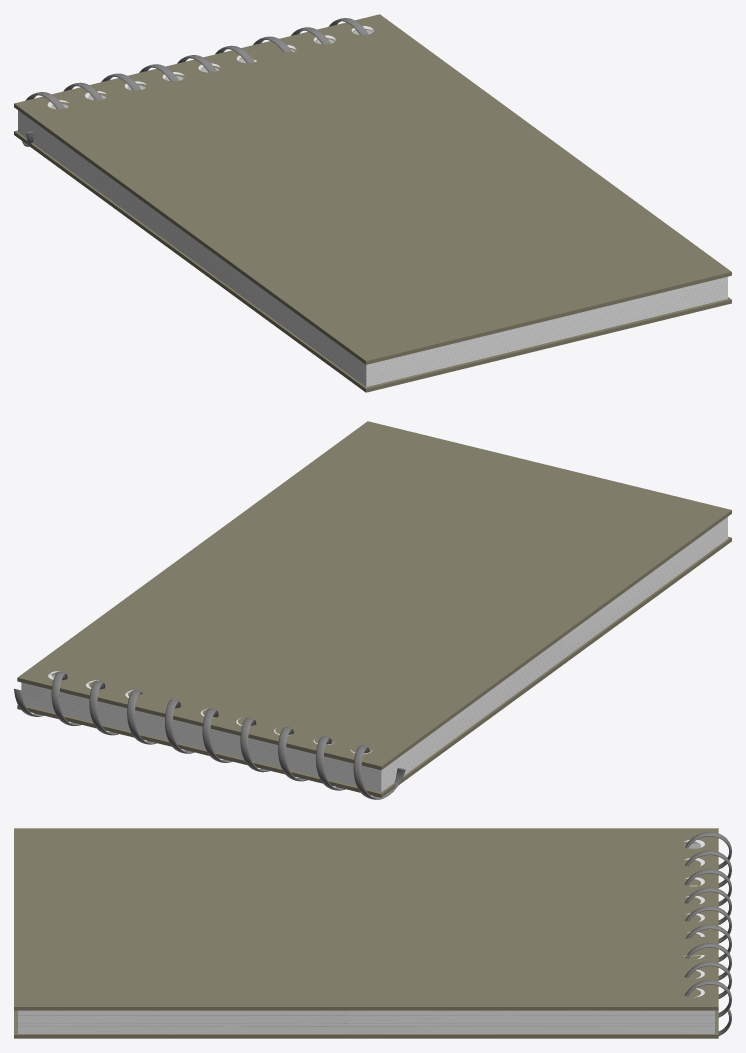
The model's file is PS_ClosedNotepad_15_DF.fbx.
3 renders of one model, top to bottom at view 1: azimuth 30°, elevation 25°; view 2: azimuth 150°, elevation 25°; view 3: azimuth 270°, elevation 25°, orthographic.
Parts seen in each view (by area): view 1: FrontandBackCover, Paper, MetalSpiral1; view 2: FrontandBackCover, Paper, MetalSpiral1; view 3: FrontandBackCover, Paper, MetalSpiral1.
Part boxes in pixels (x1,y1,x2,y2): FrontandBackCover: [14, 14, 731, 392]; Paper: [18, 26, 727, 386]; MetalSpiral1: [22, 18, 368, 146]; FrontandBackCover: [17, 421, 731, 797]; Paper: [21, 517, 727, 792]; MetalSpiral1: [14, 671, 405, 799]; FrontandBackCover: [14, 828, 718, 1038]; Paper: [18, 839, 714, 1033]; MetalSpiral1: [684, 832, 731, 1035].
Size of the model in its own units: 0.0775 by 0.00915 by 0.1294.
Materials: 3 (1 with a texture image).
